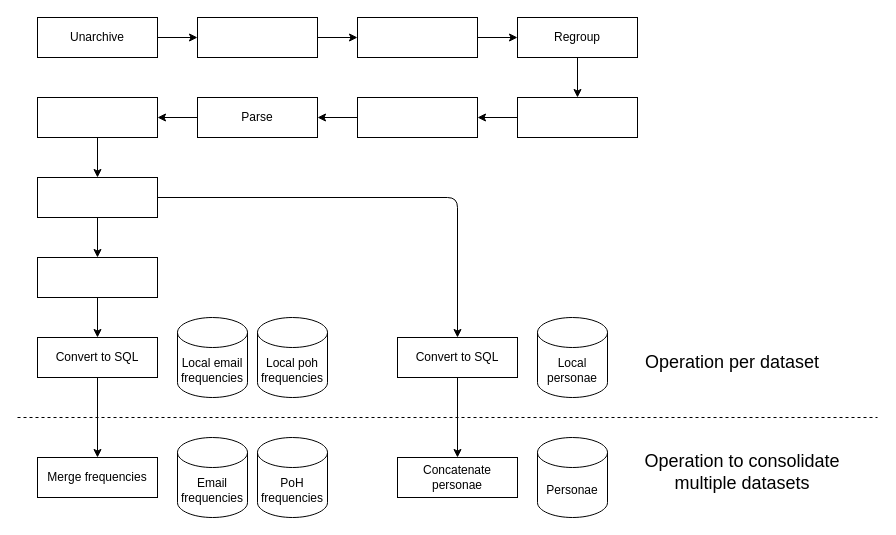
Some shapes in this 896 by 535 pixel diagram are drawn without their labels. Each missing label, with the box of its shape:
Cleanup: (36, 96, 158, 138)
Convert to parquet: (36, 176, 158, 218)
Count local frequencies: (36, 256, 158, 298)
Detect schema: (356, 96, 478, 138)
Flatten: (196, 16, 318, 58)
Rearchive: (516, 96, 638, 138)
Split into chunks: (356, 16, 478, 58)
